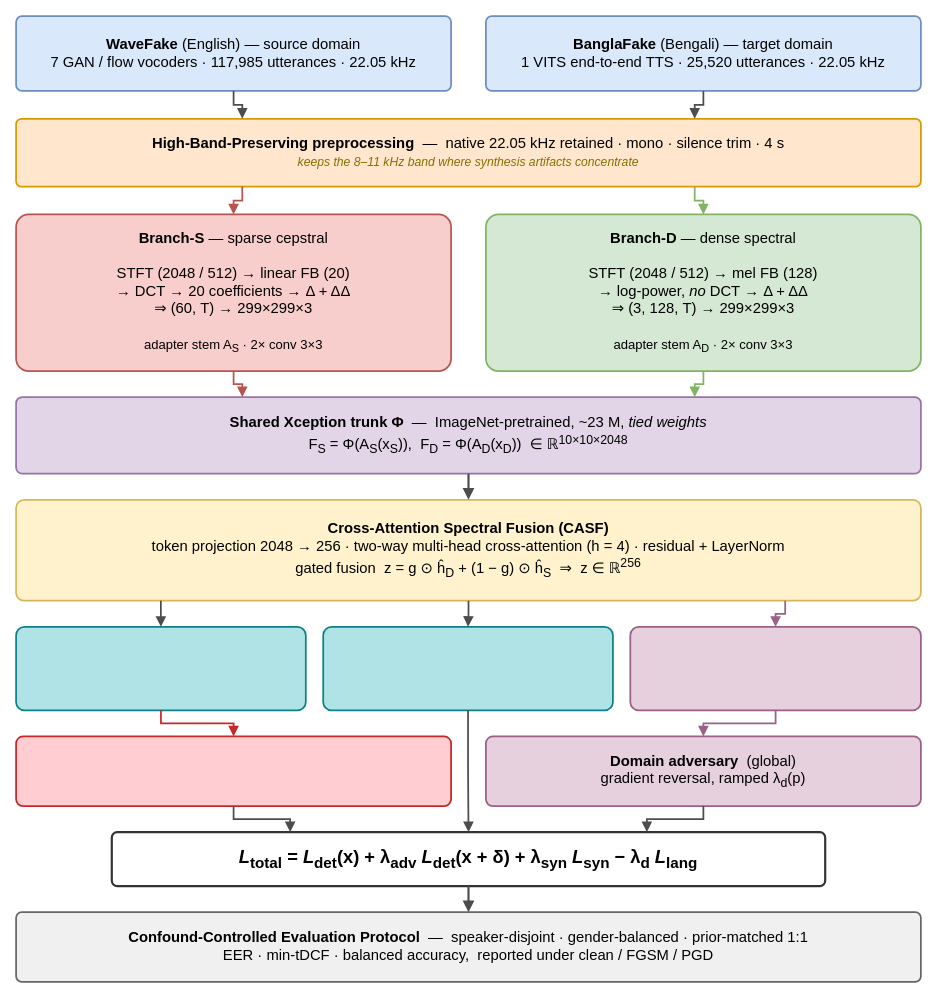
The diagram is 936 pixels wide and 997 high, and some of its shapes have lost their labels. The shapes that lost their labels are listed below. From the top down, each one's centre as x and y in pixels, then its label:
the point at 160,668: h det detection real vs. deepfake L det
the point at 467,668: h syn synthesis family real / GAN-vocoder / E2E-TTS L syn (+λ syn )
the point at 775,668: GRL → h lang language English vs. Bengali L lang reversed (−λ d )
the point at 233,770: Perturbation adversary (local) FGSM / PGD, adaptive attack sampling
